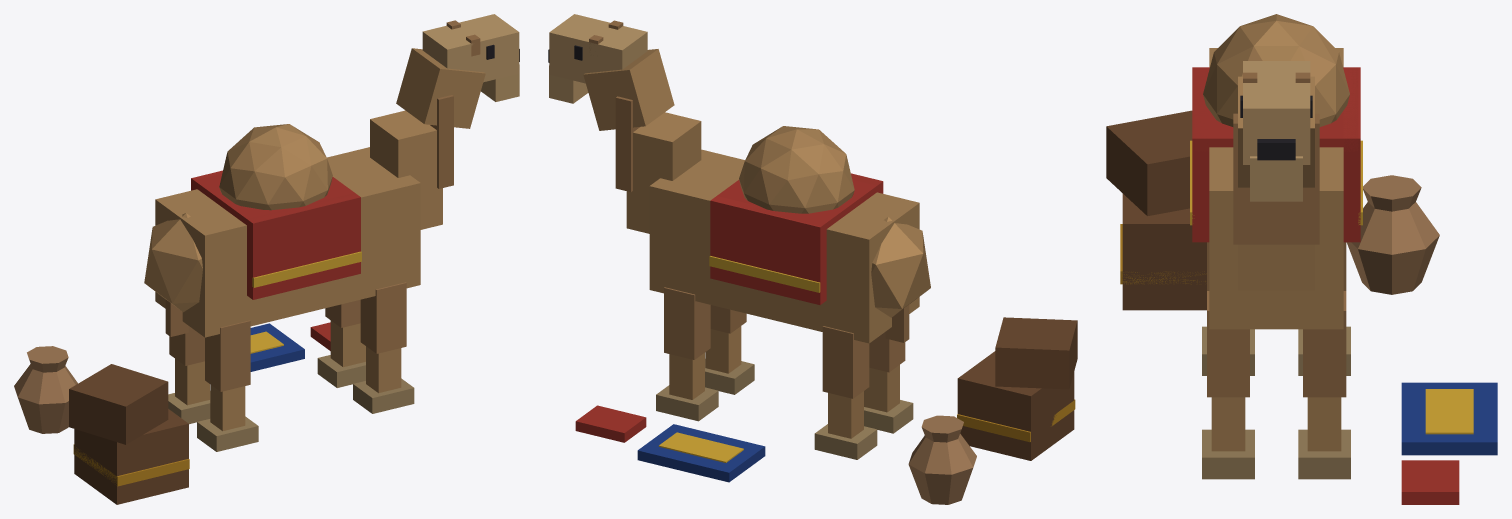
The model's file is Decor_PharaohPyramid_Camel.fbx.
3 views of the same model, side by side, from view 1: azimuth 30°, elevation 25°; view 2: azimuth 150°, elevation 25°; view 3: azimuth 270°, elevation 25° (orthographic). The views are drawn at different scales.
Visible parts, largest first — view 1: Camel_Body; view 2: Camel_Body; view 3: Camel_Body.
Part boxes in pixels (box(x1,y1,x2,y2)): Camel_Body: box(14, 14, 519, 504); Camel_Body: box(548, 14, 1077, 504); Camel_Body: box(1106, 14, 1497, 504).
Bounding box in the file's own units: 15.42 × 10.4 × 8.12.
